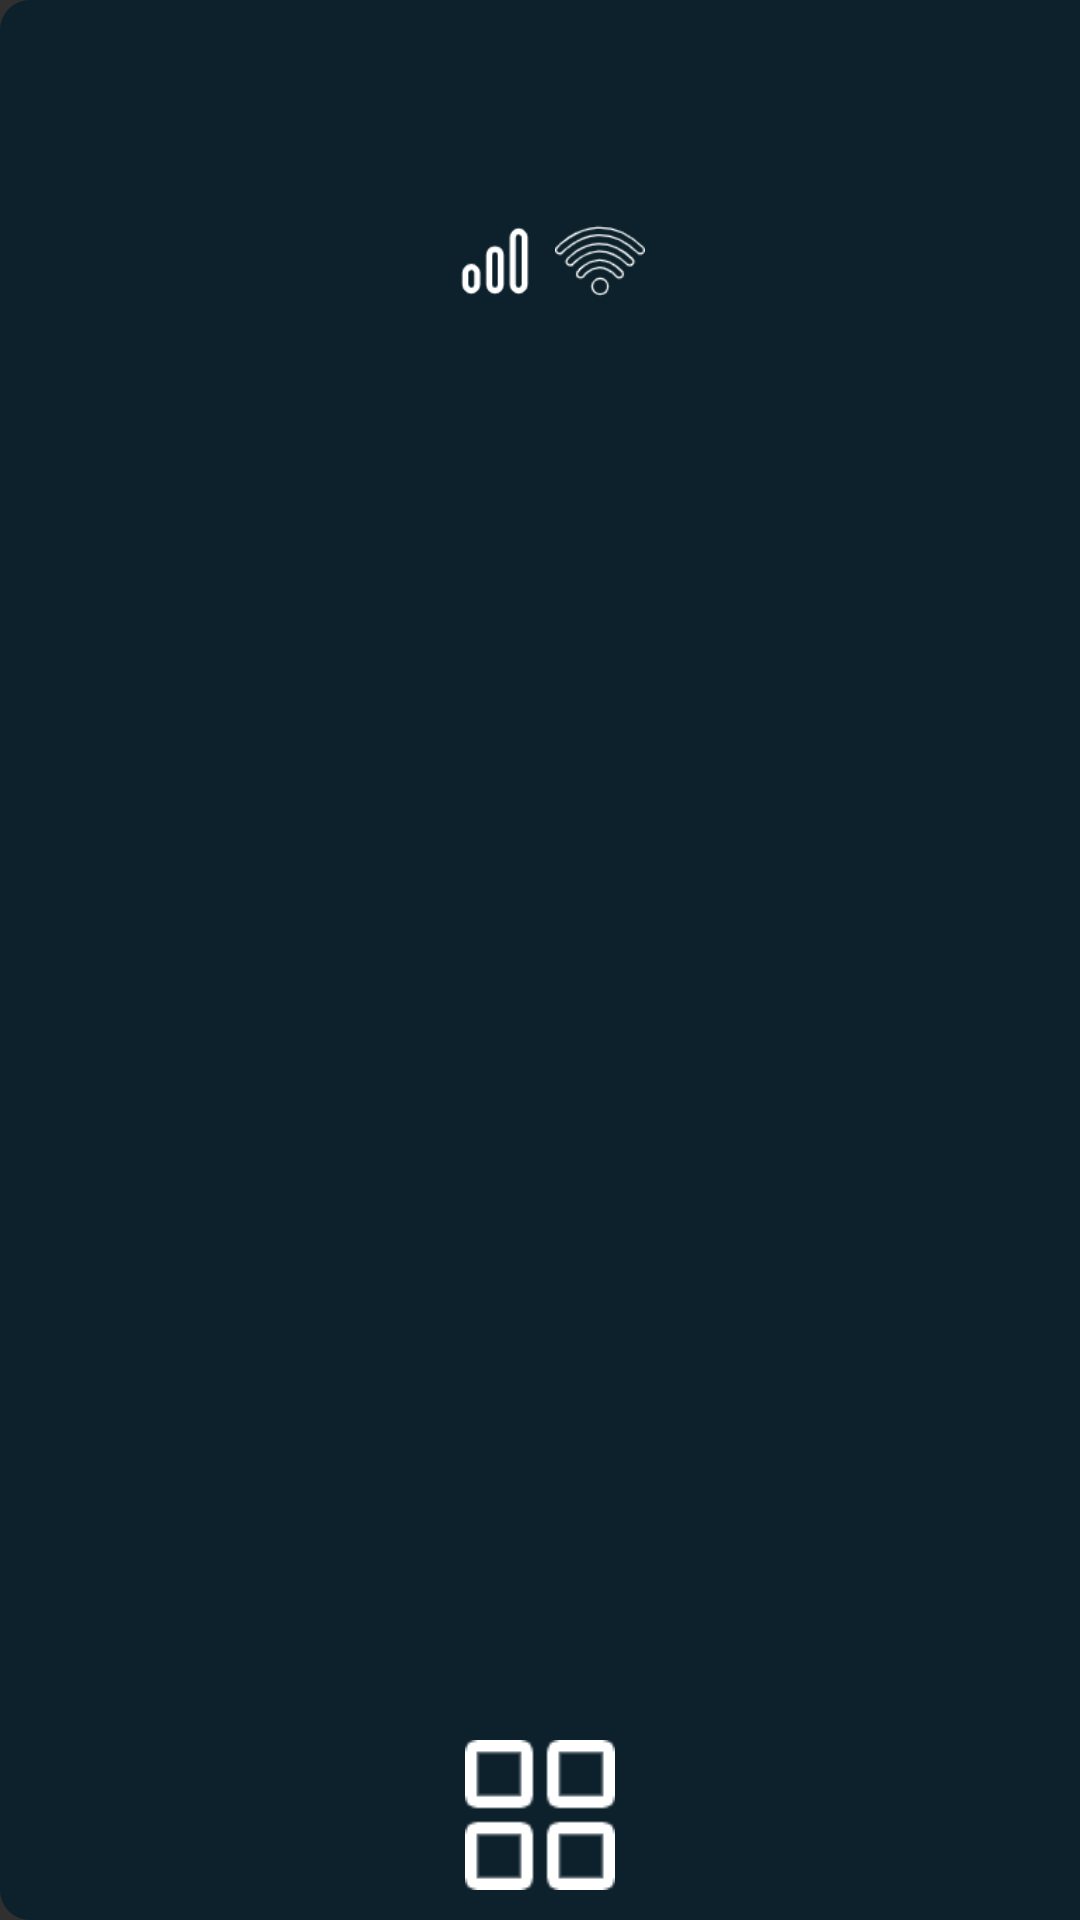

Icon click points for this 1080*1920 phone screenshot, format [x,y]:
all app: [540,1815]
signal: [495,261]
wifi: [600,261]
